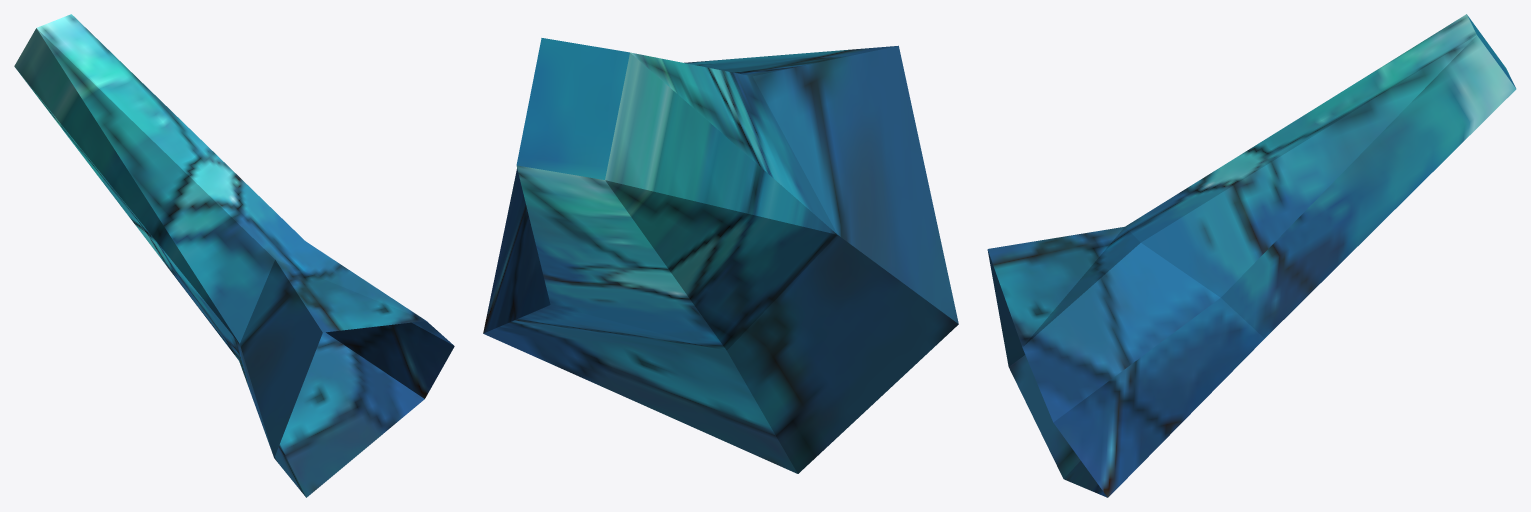
3 renders of one model, left to right at view 1: azimuth 30°, elevation 25°; view 2: azimuth 150°, elevation 25°; view 3: azimuth 270°, elevation 25°, orthographic. The views are drawn at different scales.
Parts seen in each view (by area): view 1: Object002; view 2: Object002; view 3: Object002.
Part boxes in pixels (<box>): Object002: <box>14,14,454,497</box>; Object002: <box>483,38,958,473</box>; Object002: <box>987,14,1516,497</box>.
Size of the model in its own units: 138 by 199 by 230.
